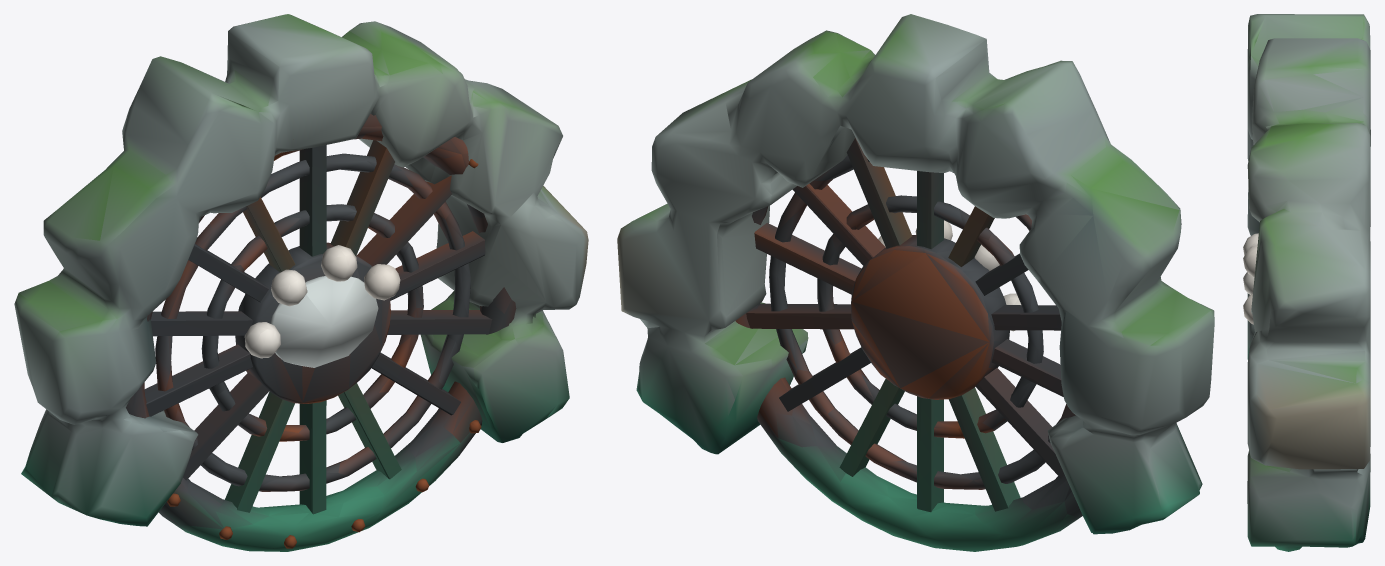
The model's file is grotto_pearl_seal_lod1.glb.
The picture shows the model from 3 angles, left to right: view 1: azimuth 30°, elevation 25°; view 2: azimuth 150°, elevation 25°; view 3: azimuth 270°, elevation 25°; orthographic projection. The views are drawn at different scales.
Visible parts, largest first — view 1: grotto_pearl_seal.001; view 2: grotto_pearl_seal.001; view 3: grotto_pearl_seal.001.
Part boxes in pixels (bbox=[...]): grotto_pearl_seal.001: bbox=[14, 14, 588, 551]; grotto_pearl_seal.001: bbox=[617, 14, 1214, 551]; grotto_pearl_seal.001: bbox=[1243, 14, 1370, 551].
Size of the model in its own units: 11.46 by 10.22 by 2.49.
